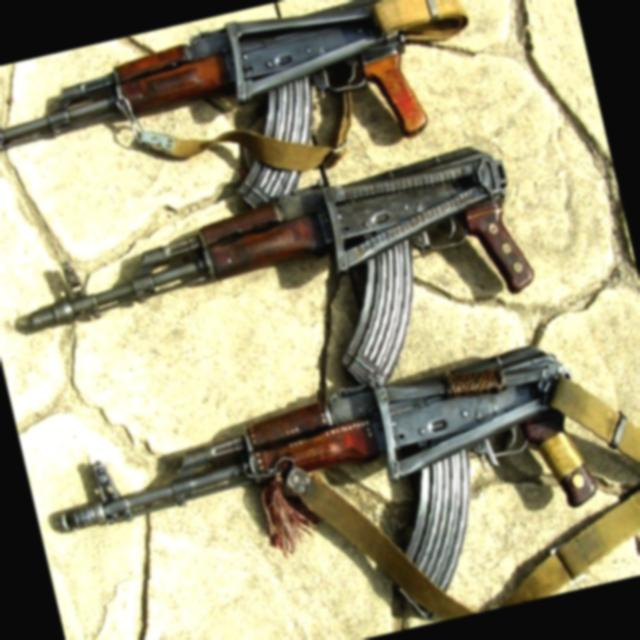ak: (36, 333, 627, 640), (8, 132, 558, 456), (0, 0, 447, 257)
